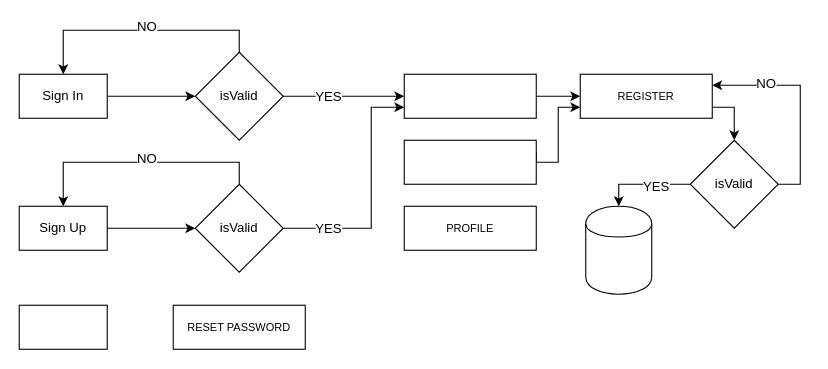
Some shapes in this 828 by 369 pixel diagram are drawn without their labels. The centre of each missing label's shape, as x and y in pixels:
"CATEGORY" belongs at point 469,161.
"DB" belongs at point 618,249.
"FEED" belongs at point 469,95.
"Forgot Password" belongs at point 62,326.
